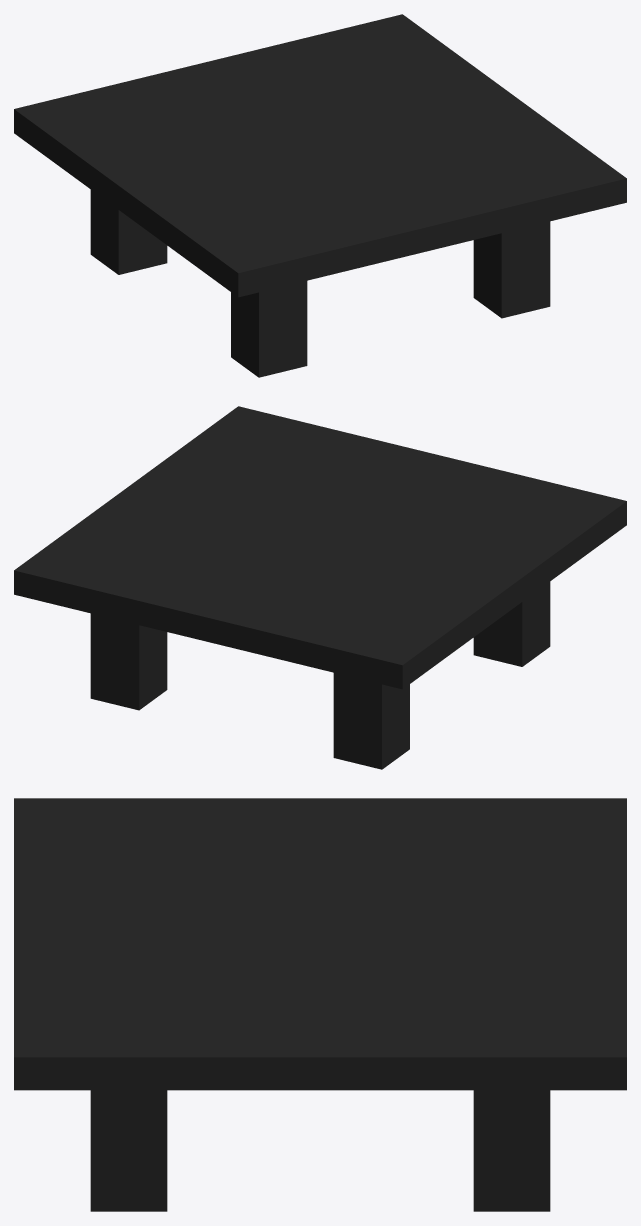
3 renders of one model, top to bottom at view 1: azimuth 30°, elevation 25°; view 2: azimuth 150°, elevation 25°; view 3: azimuth 270°, elevation 25°, orthographic. The views are drawn at different scales.
Visible parts, largest first — view 1: AsianLittleTable; view 2: AsianLittleTable; view 3: AsianLittleTable.
Boxes of the visible parts, x1,y1,x2,y2 form: AsianLittleTable: (14,14,626,377); AsianLittleTable: (14,406,626,769); AsianLittleTable: (14,798,626,1211).
Size of what is drawn, in the model's own units: 1.4 by 0.4709 by 1.4.
Materials: 1 (1 with a texture image).
